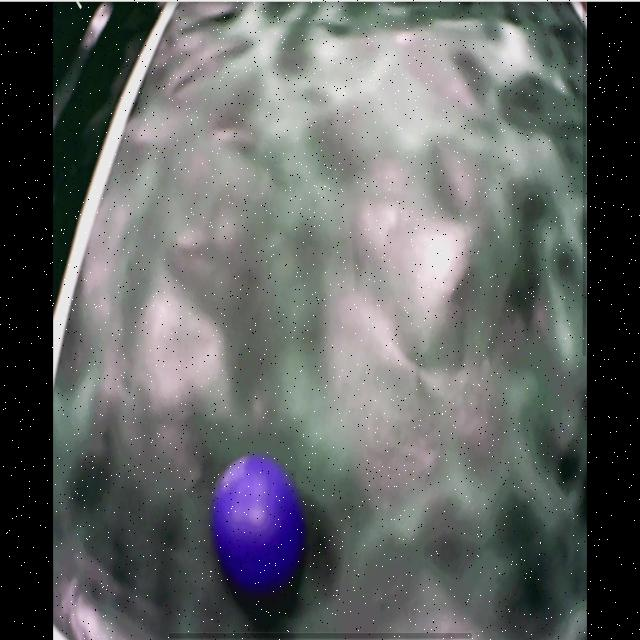ball: (216, 458, 304, 595)
